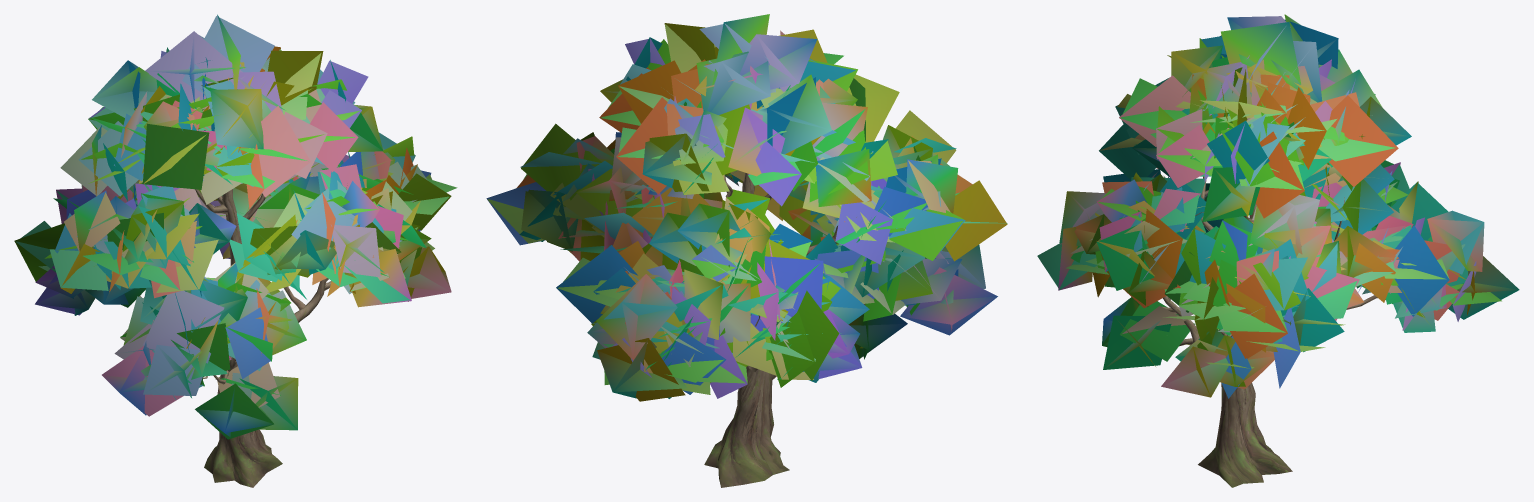
The model's file is Homeworld_Exterior_Dq_Plant_Pt_07_Lod0.fbx.
3 views of the same model, side by side, from view 1: azimuth 30°, elevation 25°; view 2: azimuth 150°, elevation 25°; view 3: azimuth 270°, elevation 25° (orthographic). The views are drawn at different scales.
Visible parts, largest first — view 1: Area_Dq_Tree_Common_Sak_01_02_Leaf_Lod0, Area_Dq_Tree_Common_Sak_01_02_Bark_Lod0; view 2: Area_Dq_Tree_Common_Sak_01_02_Leaf_Lod0, Area_Dq_Tree_Common_Sak_01_02_Bark_Lod0; view 3: Area_Dq_Tree_Common_Sak_01_02_Leaf_Lod0, Area_Dq_Tree_Common_Sak_01_02_Bark_Lod0.
Part boxes in pixels (box(x1,y1,x2,y2)): Area_Dq_Tree_Common_Sak_01_02_Leaf_Lod0: box(14, 14, 457, 439); Area_Dq_Tree_Common_Sak_01_02_Bark_Lod0: box(122, 183, 347, 487); Area_Dq_Tree_Common_Sak_01_02_Leaf_Lod0: box(486, 14, 1007, 401); Area_Dq_Tree_Common_Sak_01_02_Bark_Lod0: box(704, 172, 865, 487); Area_Dq_Tree_Common_Sak_01_02_Leaf_Lod0: box(1037, 14, 1519, 398); Area_Dq_Tree_Common_Sak_01_02_Bark_Lod0: box(1157, 176, 1377, 487).
Size of the model in its own units: 18.46 by 17.94 by 17.47.
